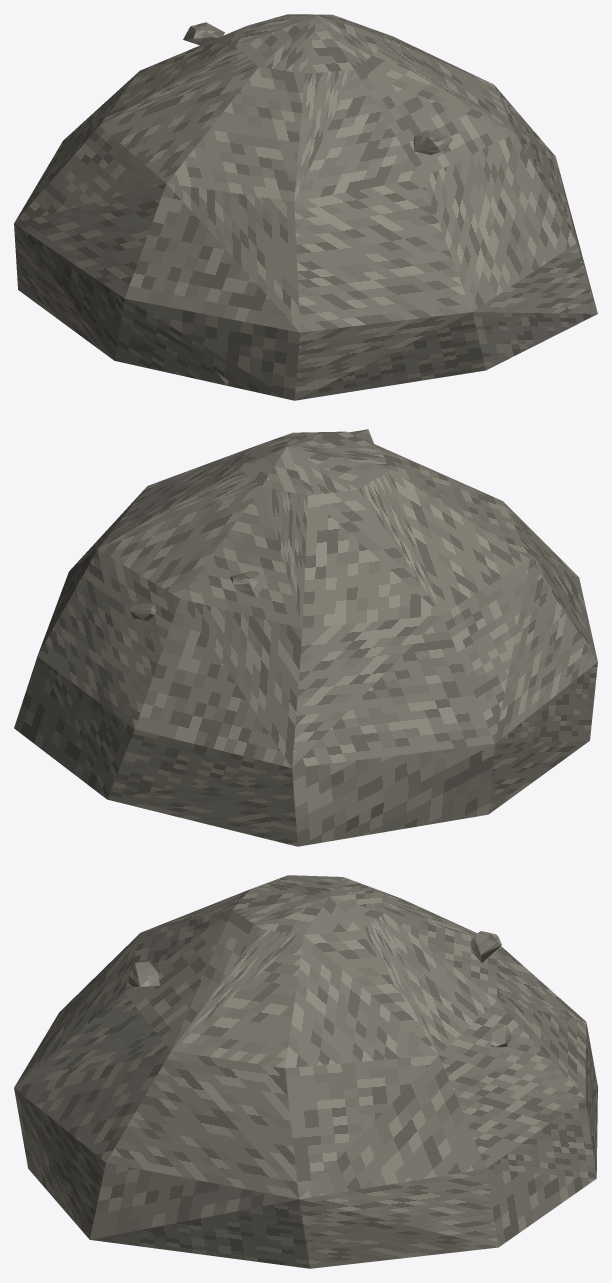
File: f_gravel_mound_short.glb
3 views of the same model, one above another, from view 1: azimuth 30°, elevation 25°; view 2: azimuth 150°, elevation 25°; view 3: azimuth 270°, elevation 25° (orthographic). The views are drawn at different scales.
Parts seen in each view (by area): view 1: block_heaped-gravel, block_loose-gravel (×2); view 2: block_heaped-gravel, block_loose-gravel; view 3: block_heaped-gravel, block_loose-gravel (×2).
Part boxes in pixels (left/top/right/bottom): block_heaped-gravel: left=14, top=14, right=597, bottom=400; block_loose-gravel (×2): left=183, top=22, right=452, bottom=154; block_heaped-gravel: left=14, top=431, right=597, bottom=846; block_loose-gravel: left=230, top=570, right=267, bottom=597; block_heaped-gravel: left=14, top=875, right=597, bottom=1268; block_loose-gravel (×2): left=128, top=931, right=501, bottom=988.
Size of the model in its own units: 0.8434 by 0.43 by 0.8723.
Materials: 1 (1 with a texture image).
